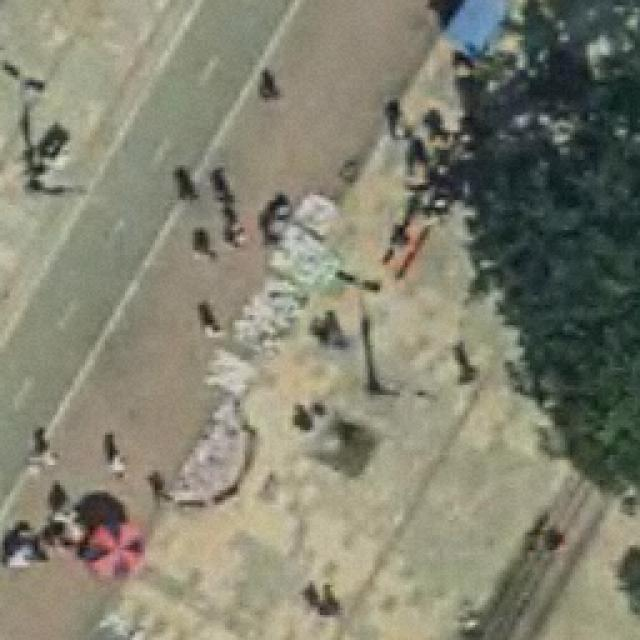vendedor_ambulante: (77, 516, 151, 586)
